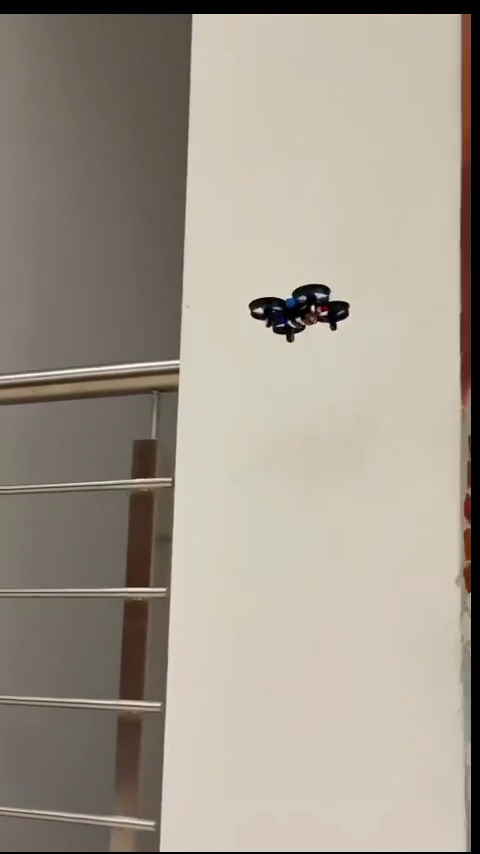drone: (248, 285, 347, 343)
